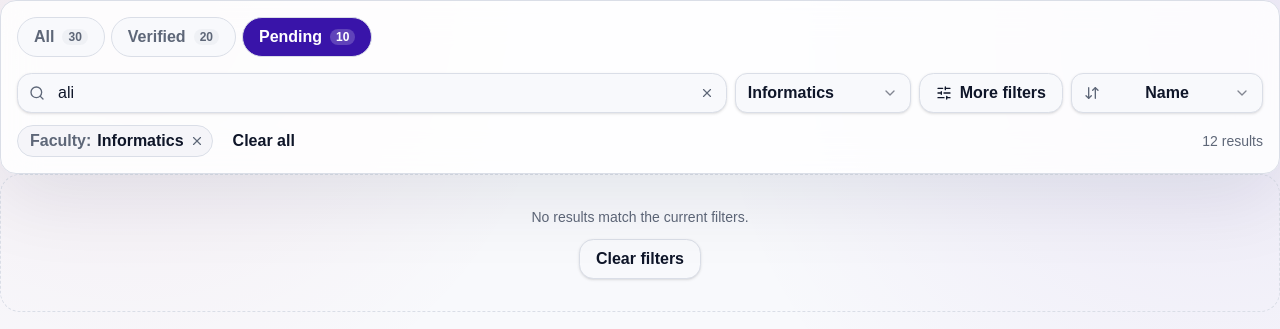
Test: FilterBar › clear all removes filters, search and segment but keeps the sort
This screenshot has width=1280, height=329.
Click the button "Clear all": point(264, 141) [221, 125, 307, 157]
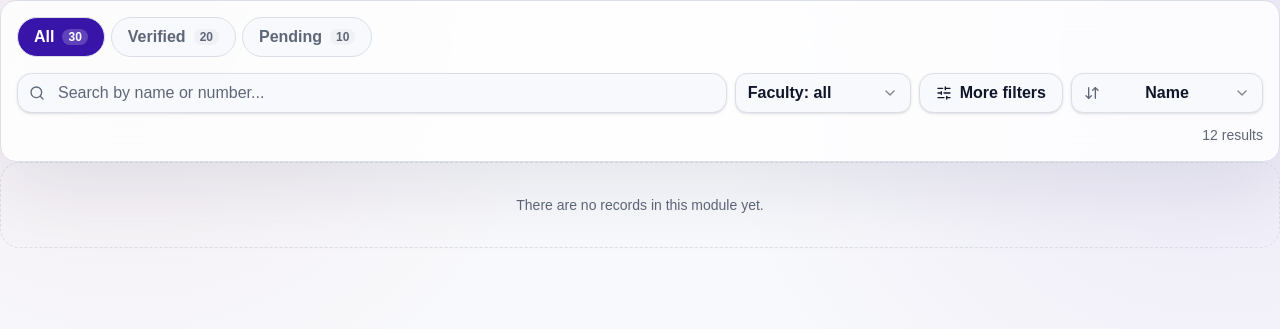
Expected: the search field is empty, [17, 73, 727, 113]
Expected: the button "Clear all" is gone
